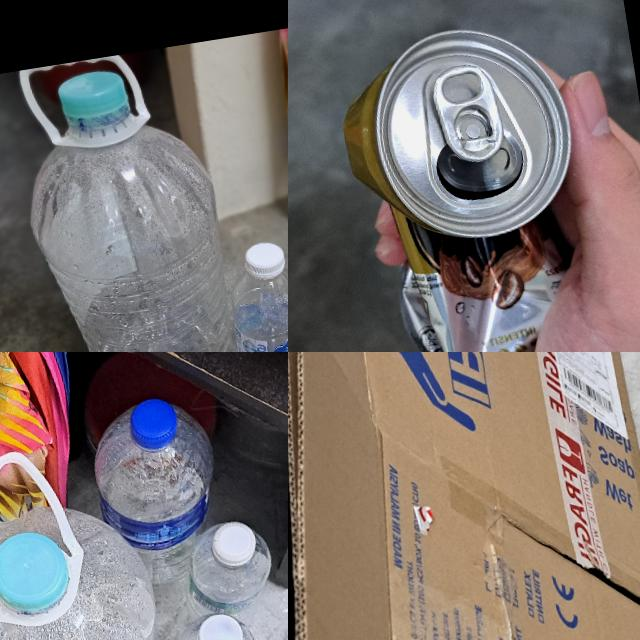aba de lata: (428, 61, 505, 167)
garrafa plástica: (18, 104, 246, 352), (80, 394, 234, 585), (0, 488, 179, 640), (176, 514, 282, 628), (226, 265, 288, 352), (168, 609, 271, 640)
lata: (329, 12, 606, 352)
papelão: (288, 352, 640, 640)
tampa plástica: (0, 528, 71, 615), (56, 65, 130, 124), (204, 514, 261, 572), (129, 394, 180, 447), (242, 238, 286, 280), (196, 609, 248, 640)
